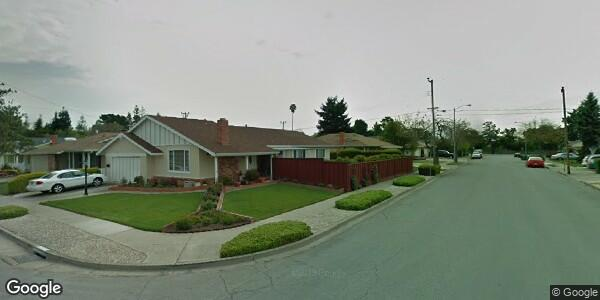Steel_Pole: (452, 102, 474, 168)
Wood_Pole: (423, 74, 440, 171), (558, 82, 572, 175)
